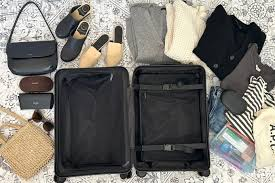suitcase: (48, 63, 213, 183)
